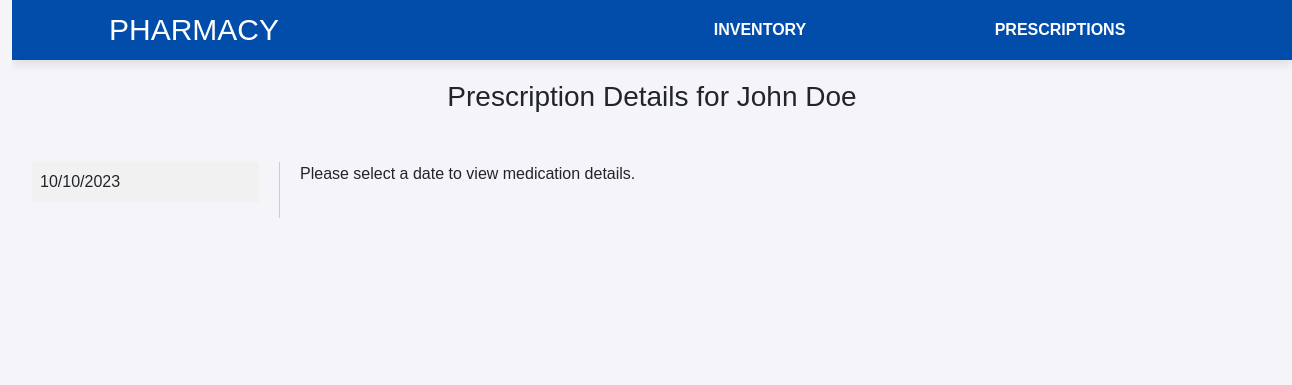
Test: PatientPrescriptions Component › shows warning when invalid medication data is found
Click the text "10/10/2023". click: [80, 181]
box: [40,173,120,190]
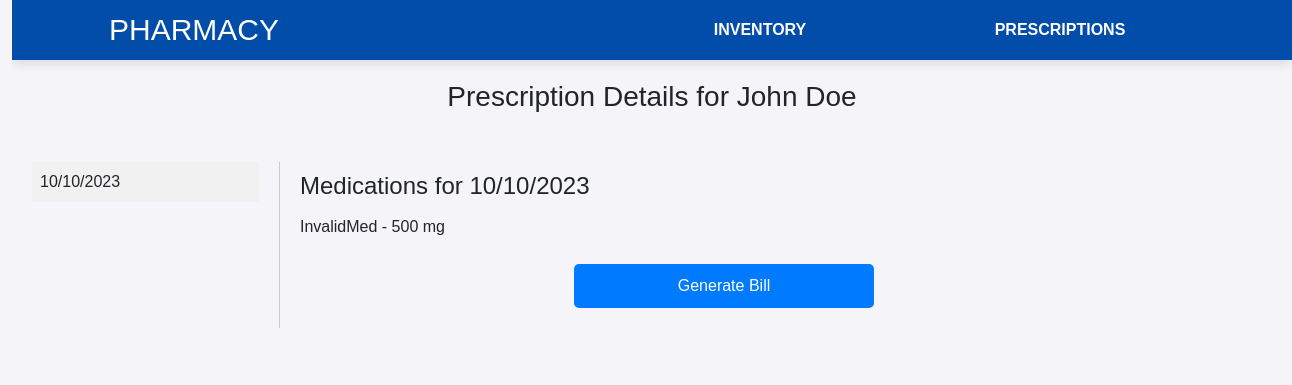
Click the button "Generate Bill". click: [724, 286]
box: [574,264,874,308]
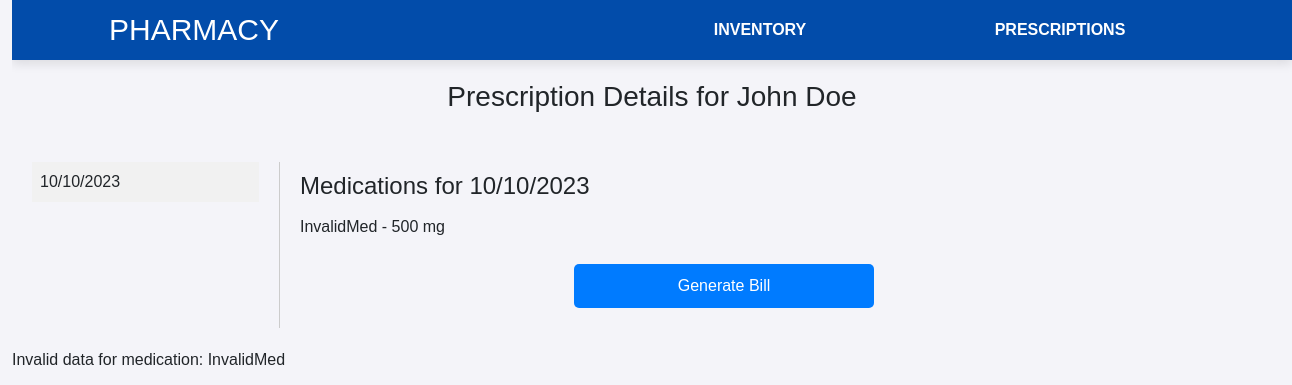
Now the text "Invalid data for medication: InvalidMed" is shown, box [12,351,285,368]
